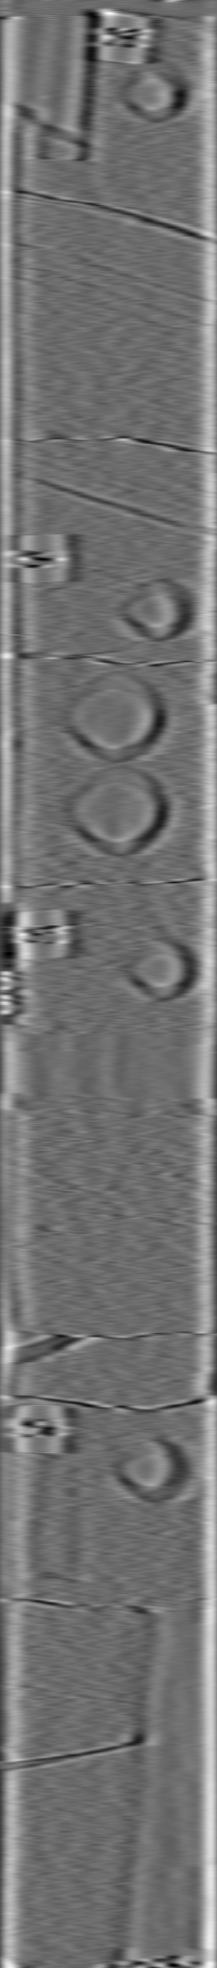hplug: (113, 564, 203, 651), (110, 1430, 198, 1512), (120, 929, 203, 1004), (117, 51, 192, 129)
scal: (61, 762, 174, 862), (64, 670, 162, 764)
vplug: (25, 15, 105, 164), (23, 1451, 97, 1588)
